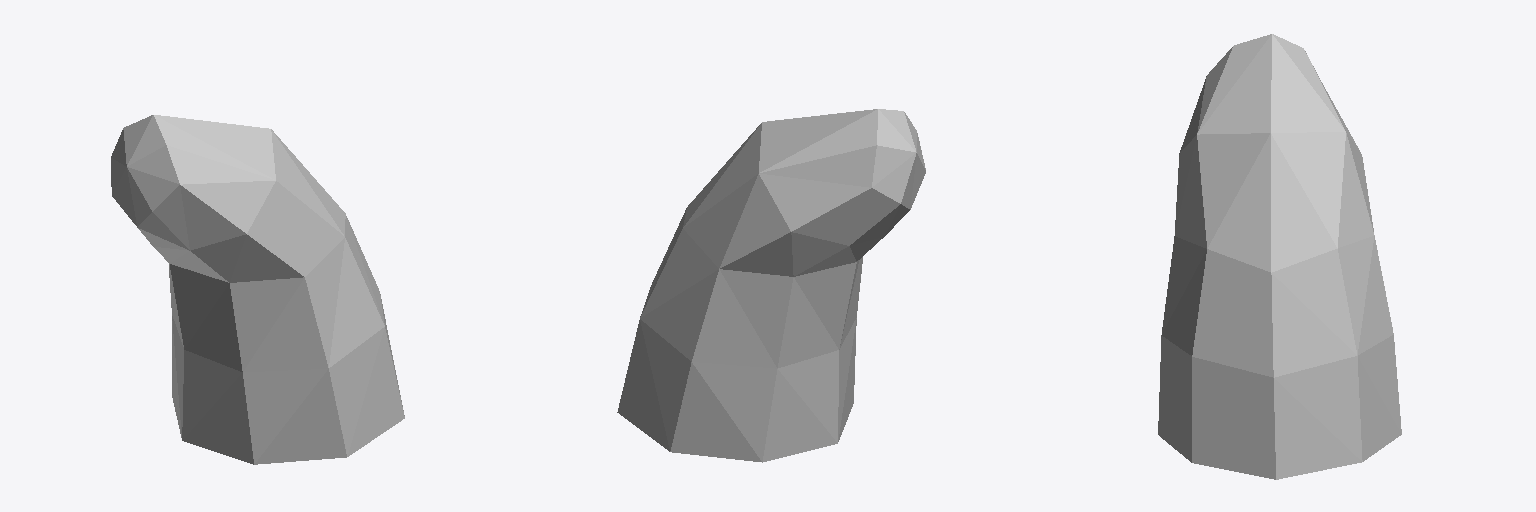
File: leftArm.obj
The picture shows the model from 3 angles: view 1: azimuth 30°, elevation 25°; view 2: azimuth 150°, elevation 25°; view 3: azimuth 270°, elevation 25°; orthographic projection.
Visible parts, largest first — view 1: Cube.001_Cube.002; view 2: Cube.001_Cube.002; view 3: Cube.001_Cube.002.
Boxes of the visible parts, <box> form: Cube.001_Cube.002: <box>111,115,404,464</box>; Cube.001_Cube.002: <box>617,109,925,462</box>; Cube.001_Cube.002: <box>1158,34,1401,479</box>.
Size of the model in its own units: 0.7348 by 0.86 by 0.5583.